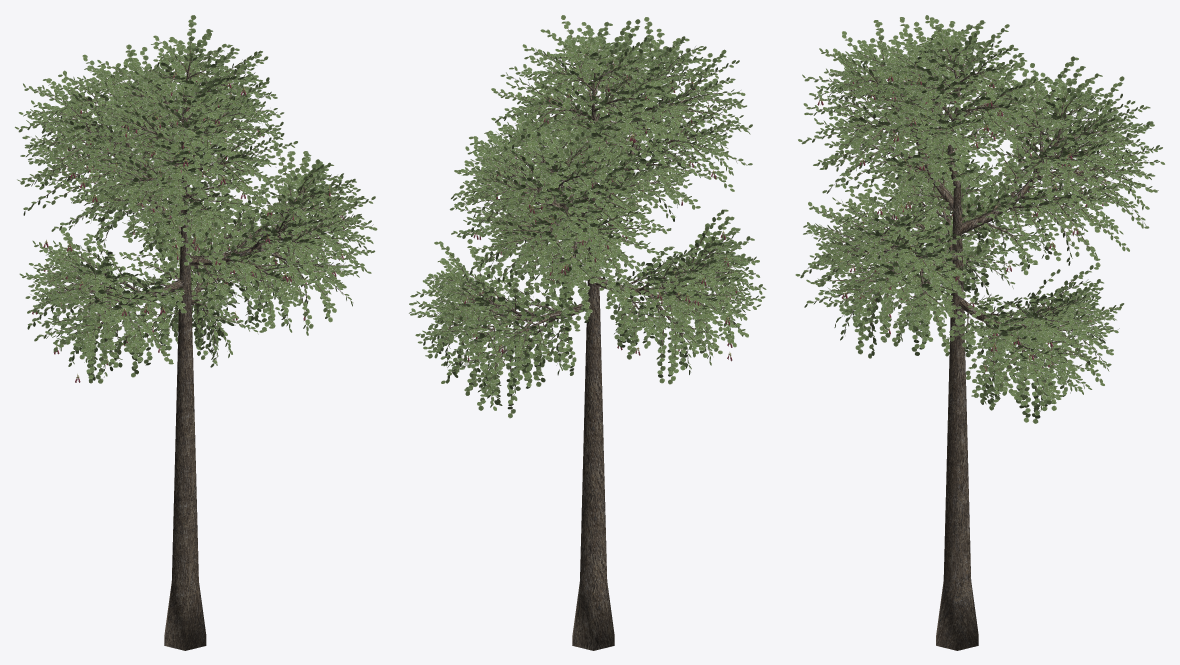
Rendered from tree.fbx.
3 views of the same model, side by side, from view 1: azimuth 30°, elevation 25°; view 2: azimuth 150°, elevation 25°; view 3: azimuth 270°, elevation 25° (orthographic).
Parts seen in each view (by area): view 1: tree.leaves, tree, tree.fruits.1; view 2: tree.leaves, tree, tree.fruits.1; view 3: tree.leaves, tree, tree.fruits.1.
Part boxes in pixels (x1,y1,x2,y2): tree.leaves: (14,15,377,383); tree: (27,28,372,650); tree.fruits.1: (32,72,344,382); tree.leaves: (409,15,766,418); tree: (415,28,758,650); tree.fruits.1: (462,54,736,361); tree.leaves: (795,15,1165,423); tree: (805,27,1154,650); tree.fruits.1: (817,72,1107,389).
Bounding box in the file's own units: 2530 × 4640 × 2563.
4 materials, 3 textured.
